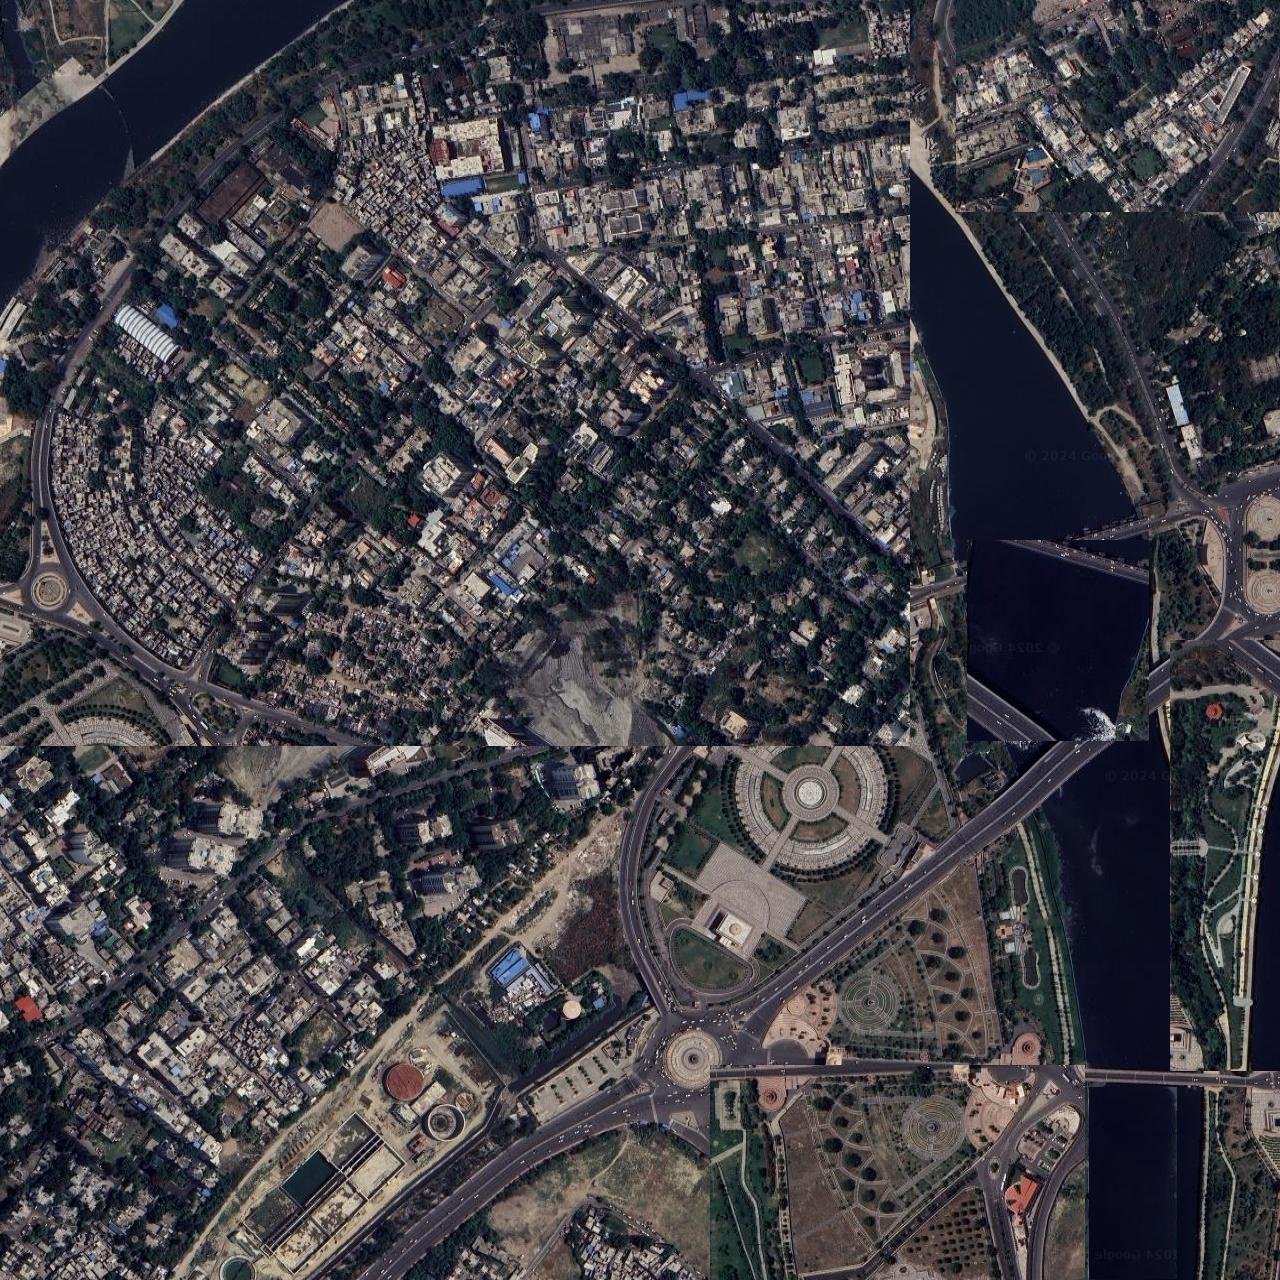greenery: (647, 660, 949, 994), (710, 1065, 1085, 1280), (760, 830, 1073, 1064), (1080, 175, 1280, 476), (406, 1125, 750, 1279), (1170, 640, 1280, 1071), (938, 159, 1125, 413), (1200, 1088, 1280, 1280), (1203, 0, 1280, 50)
house: (0, 0, 910, 745), (0, 726, 667, 1279), (956, 0, 1280, 212), (733, 0, 967, 147), (218, 635, 400, 806)
water: (571, 0, 1132, 563), (1048, 722, 1198, 1068), (968, 540, 1149, 741), (1090, 1088, 1203, 1279), (1090, 1088, 1177, 1279)
